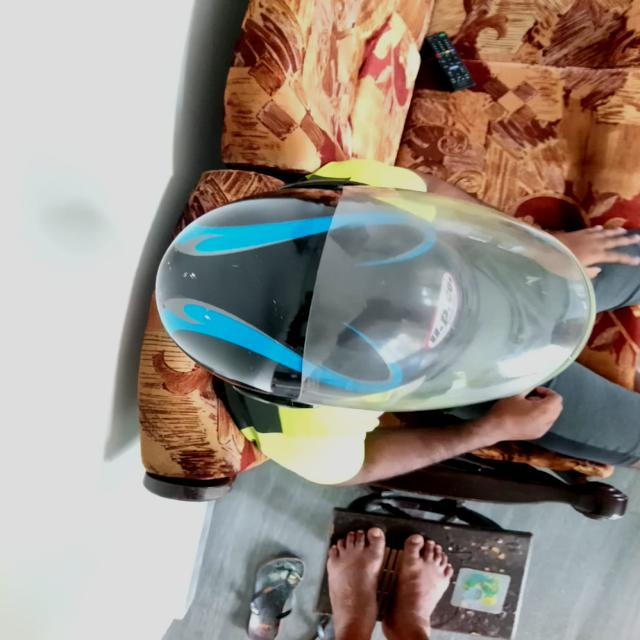With Helmet: (154, 174, 600, 411)
